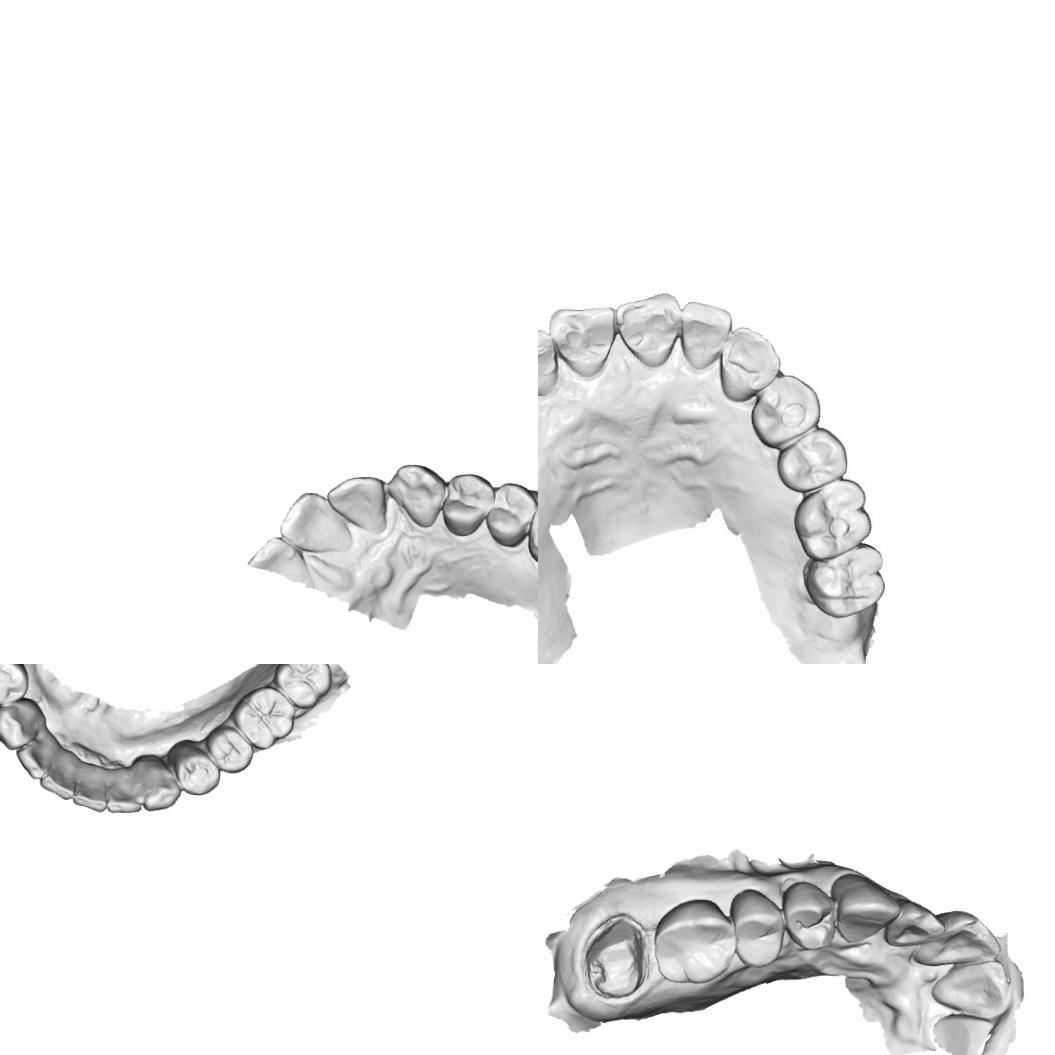canine: (829, 872, 902, 945), (721, 328, 779, 403), (389, 462, 446, 528), (138, 760, 184, 813), (0, 697, 40, 751)
crown: (579, 912, 653, 1006)
incisor: (913, 908, 1004, 970), (928, 958, 1012, 1020), (552, 306, 615, 372), (278, 491, 346, 552), (618, 292, 676, 362), (325, 472, 386, 533), (679, 299, 728, 367), (883, 899, 946, 950), (247, 534, 302, 582), (37, 750, 79, 802), (16, 727, 51, 781), (72, 766, 109, 814), (106, 769, 142, 814), (538, 330, 556, 390)
molar: (652, 896, 739, 985), (792, 477, 882, 562), (798, 541, 888, 620), (230, 683, 297, 753), (272, 664, 334, 710)
premolar: (773, 425, 851, 496), (750, 372, 823, 446), (728, 886, 787, 969), (780, 880, 838, 951), (440, 472, 496, 537), (484, 481, 538, 547), (202, 723, 255, 775), (172, 742, 222, 797), (0, 664, 31, 707)
